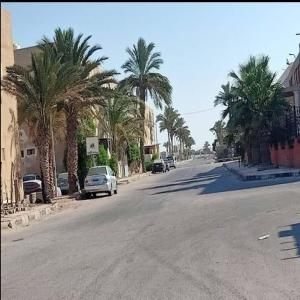palm tree: (37, 25, 120, 195), (1, 42, 80, 203), (214, 52, 292, 168), (120, 36, 172, 173)
